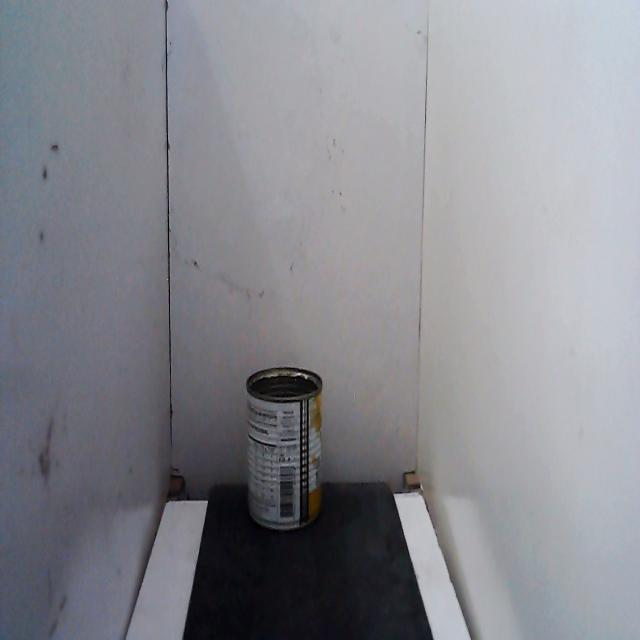metal: (238, 360, 332, 548)
